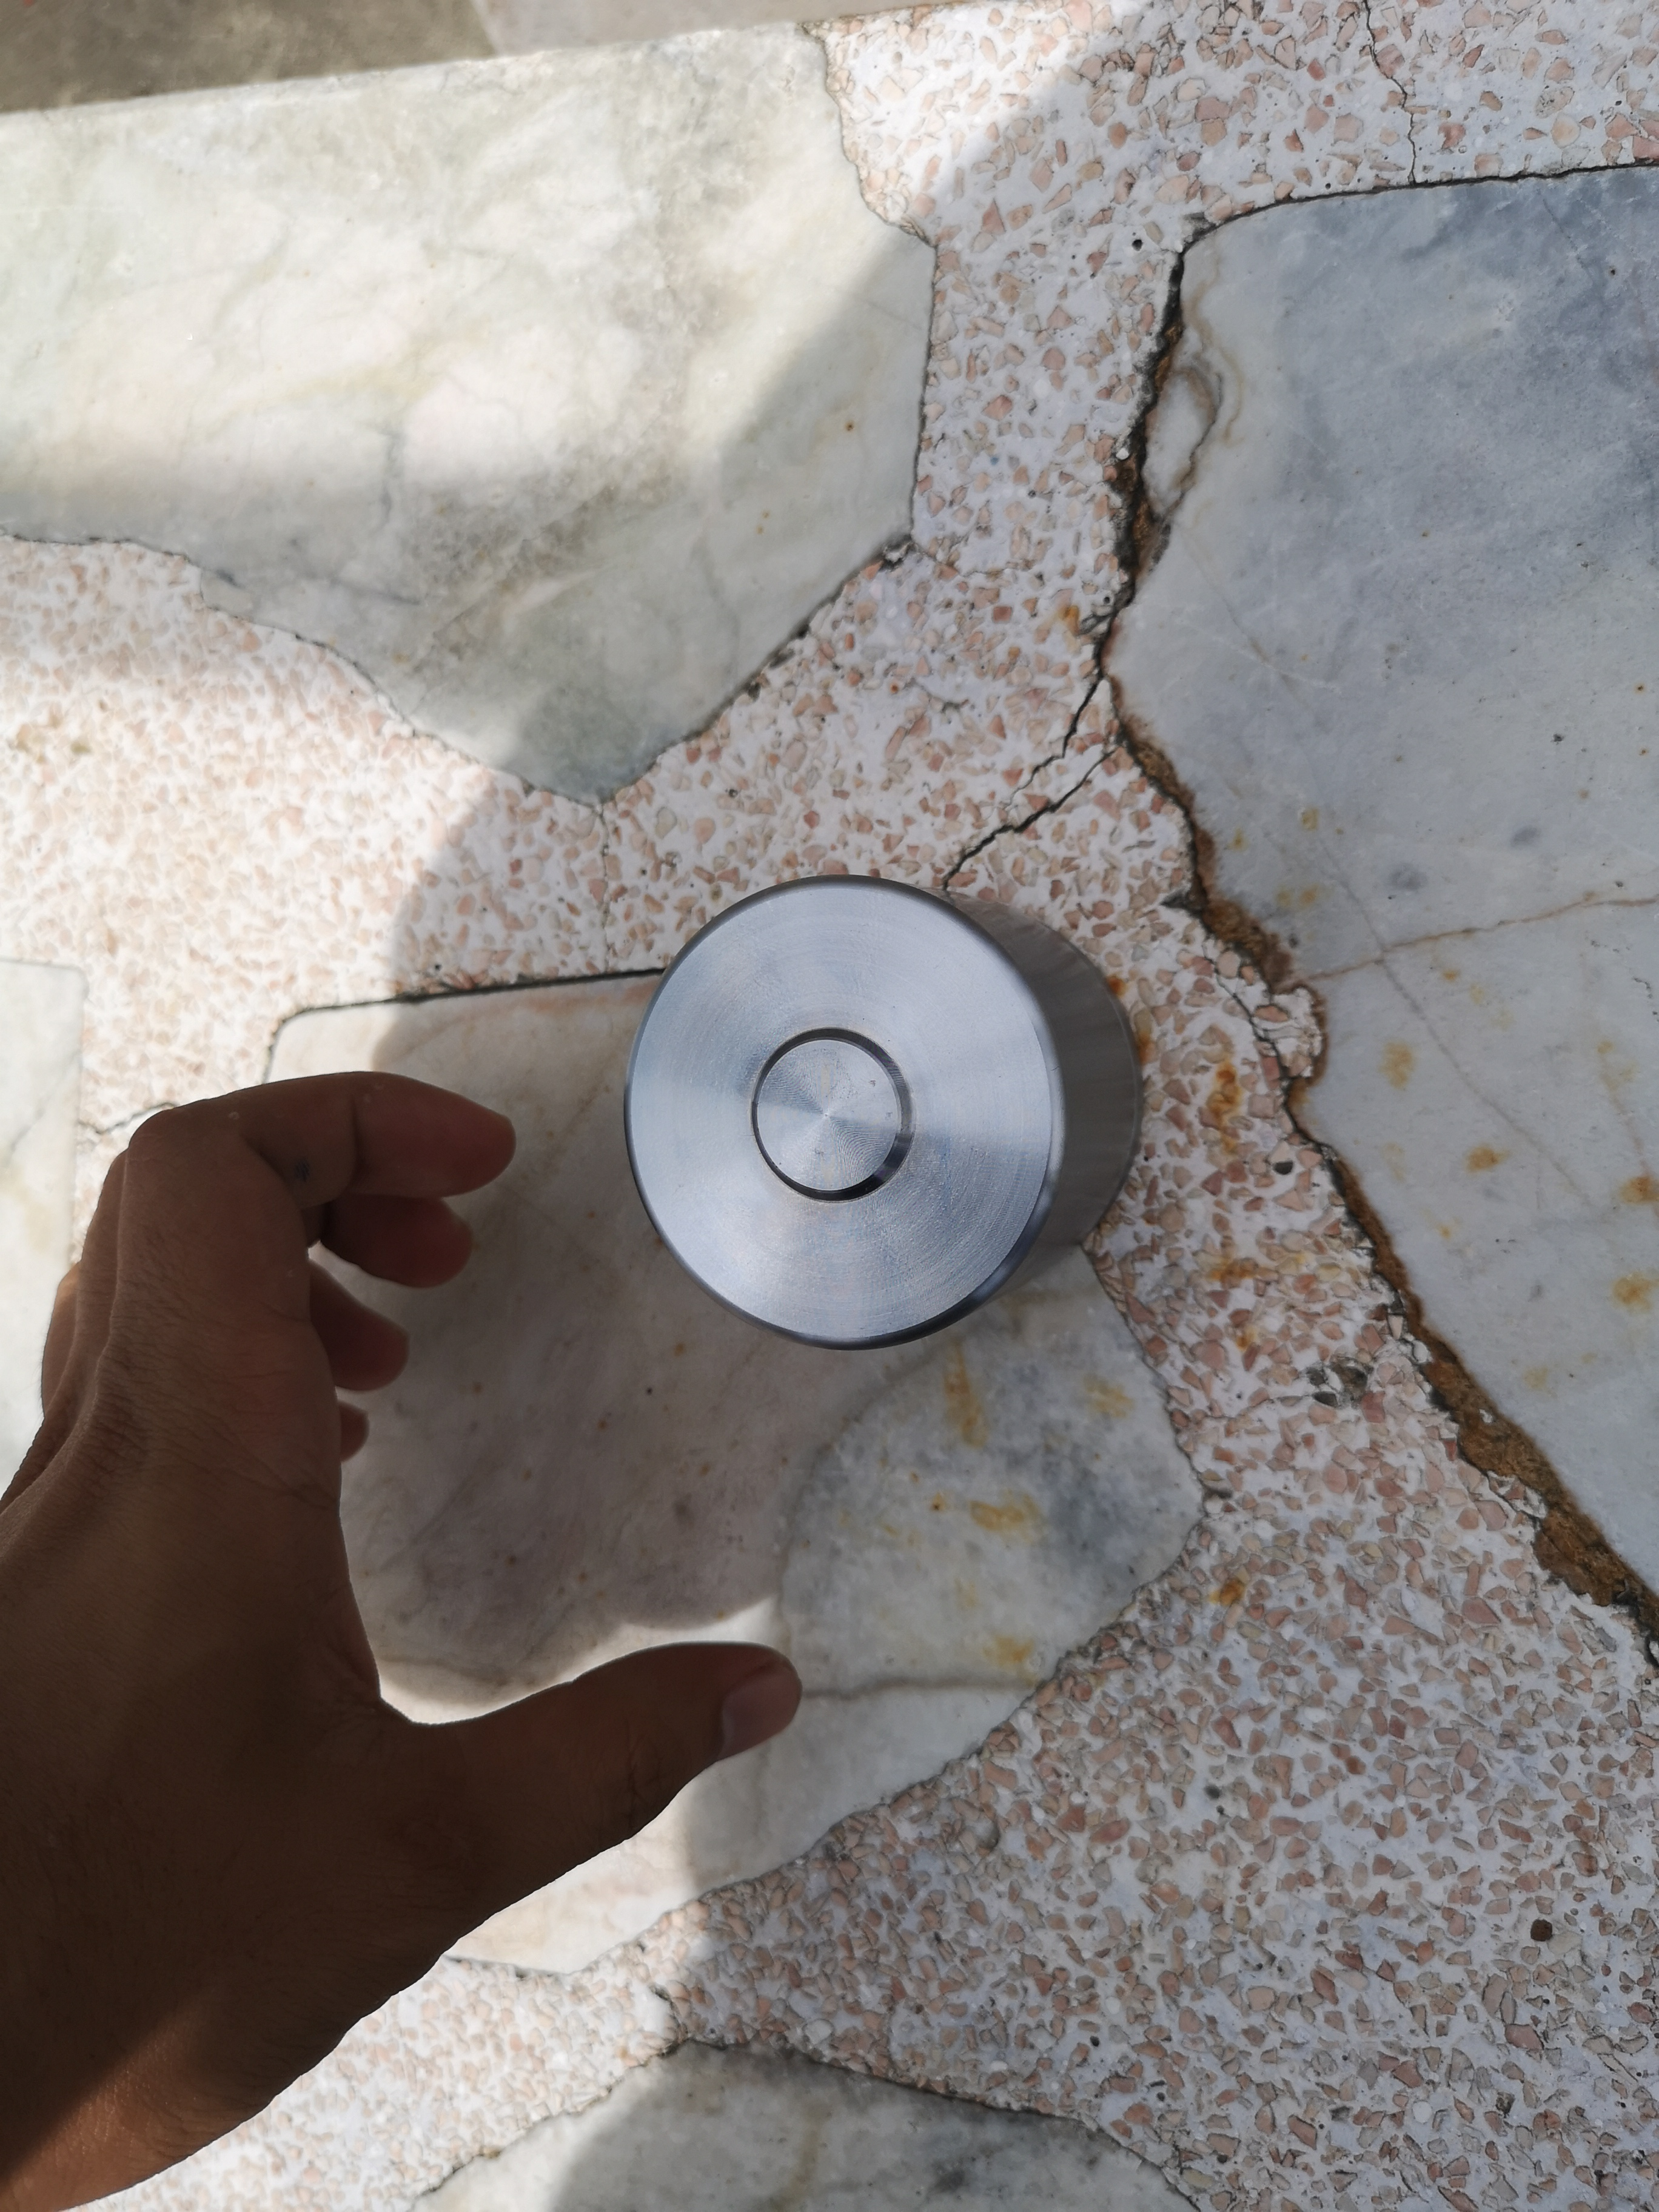ลูกสูบดิสเบรค: (617, 836, 1168, 1388)
